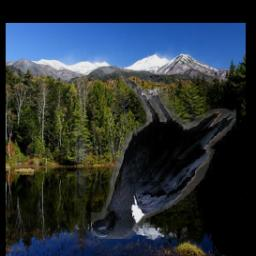Crow: (90, 77, 235, 240)
